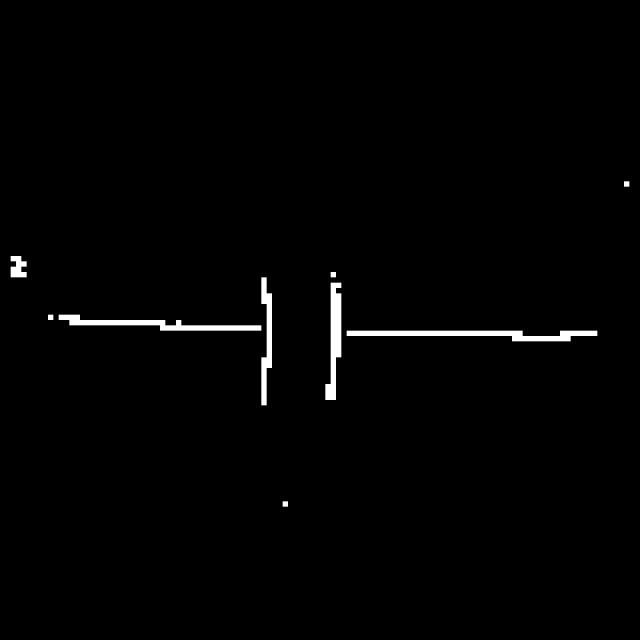capacitor: (248, 269, 355, 416)
